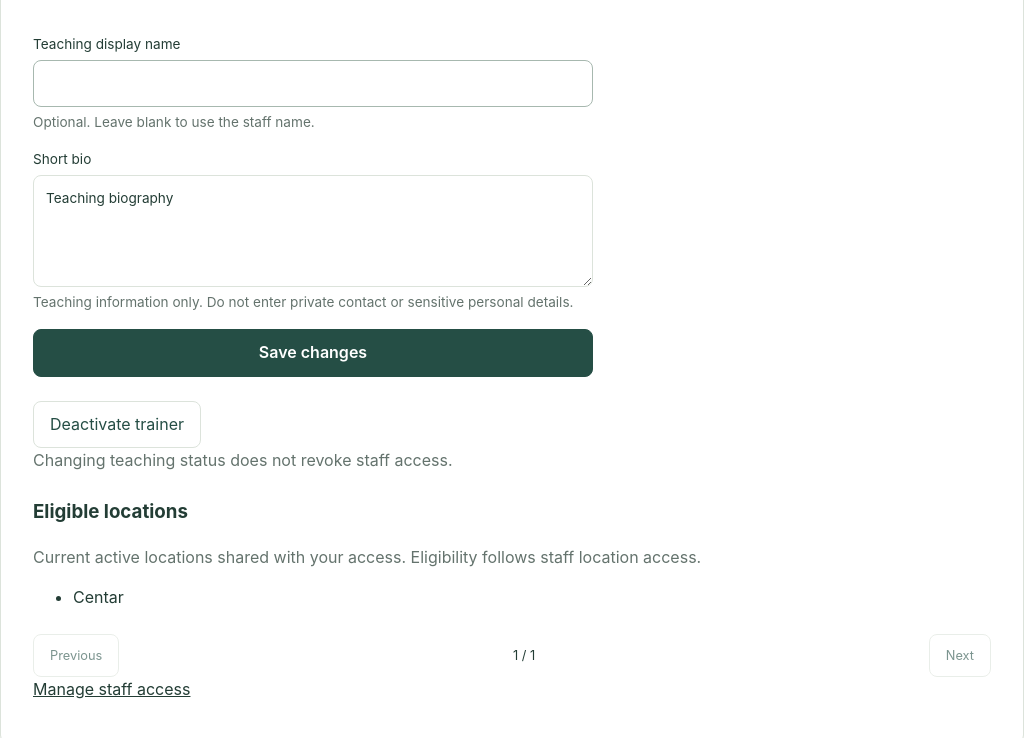
Test: deactivates and reactivates the same profile, refreshing eligible locations
The width and height of the screenshot is (1024, 738).
(page scrolled)
Click the button "Deactivate trainer".
click(117, 424)  # box [33, 400, 201, 448]
(page scrolled)
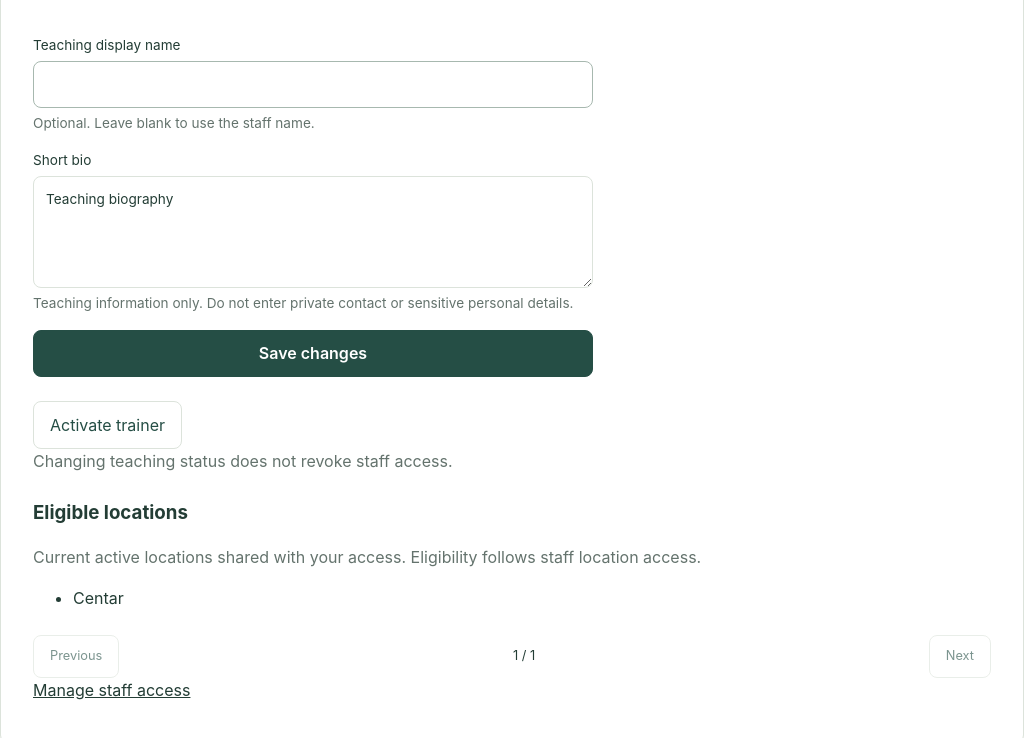
Click the button "Activate trainer".
click(108, 425)  # box [33, 401, 182, 449]
(page scrolled)
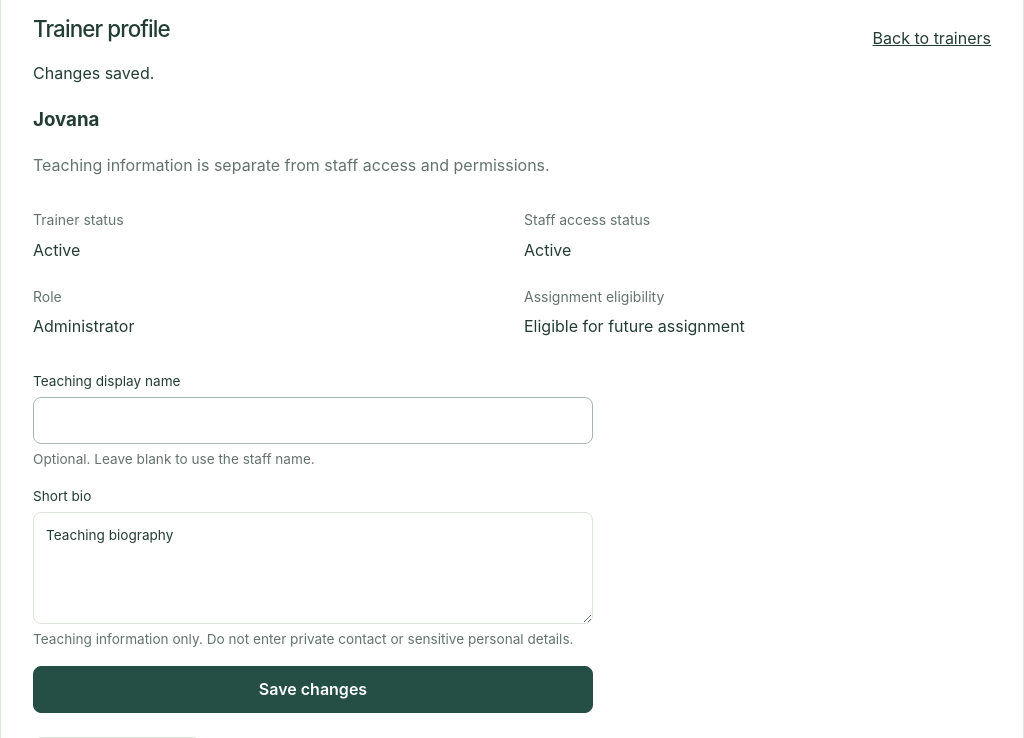
Now the text "Eligible for future assignment" is shown, box [524, 316, 745, 336]
